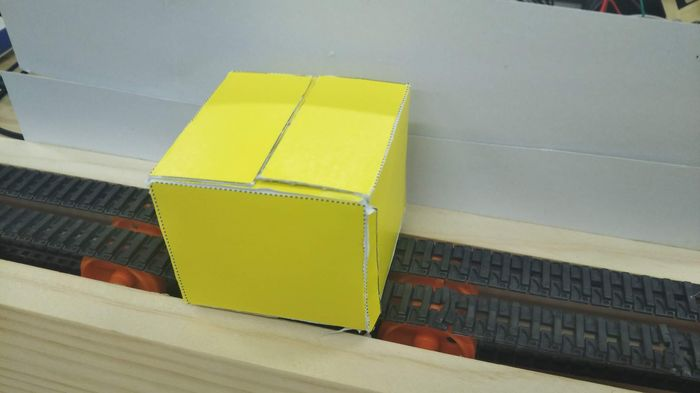box4: (146, 65, 412, 336)
